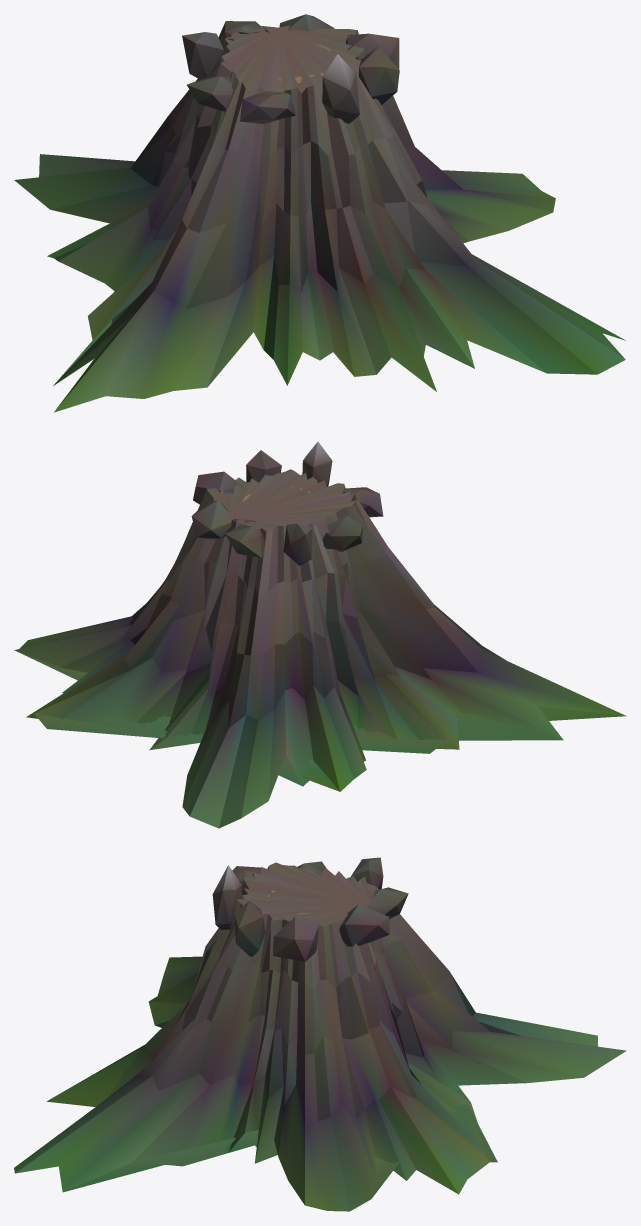
Rendered from DragonsNest.fbx.
The picture shows the model from 3 angles, top to bottom: view 1: azimuth 30°, elevation 25°; view 2: azimuth 150°, elevation 25°; view 3: azimuth 270°, elevation 25°; orthographic projection. The views are drawn at different scales.
Visible parts, largest first — view 1: DragonsNest; view 2: DragonsNest; view 3: DragonsNest.
Part boxes in pixels (x1,y1,x2,y2): DragonsNest: (14,14,625,412); DragonsNest: (14,442,626,828); DragonsNest: (14,857,626,1211).
Bounding box in the file's own units: 13.89 × 6.05 × 13.9.
